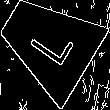L_NW: (20, 16, 75, 70)
